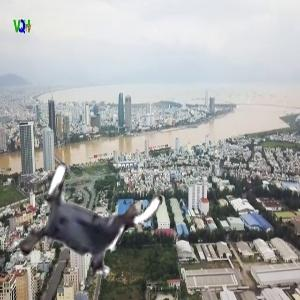drone: (17, 155, 158, 296)
